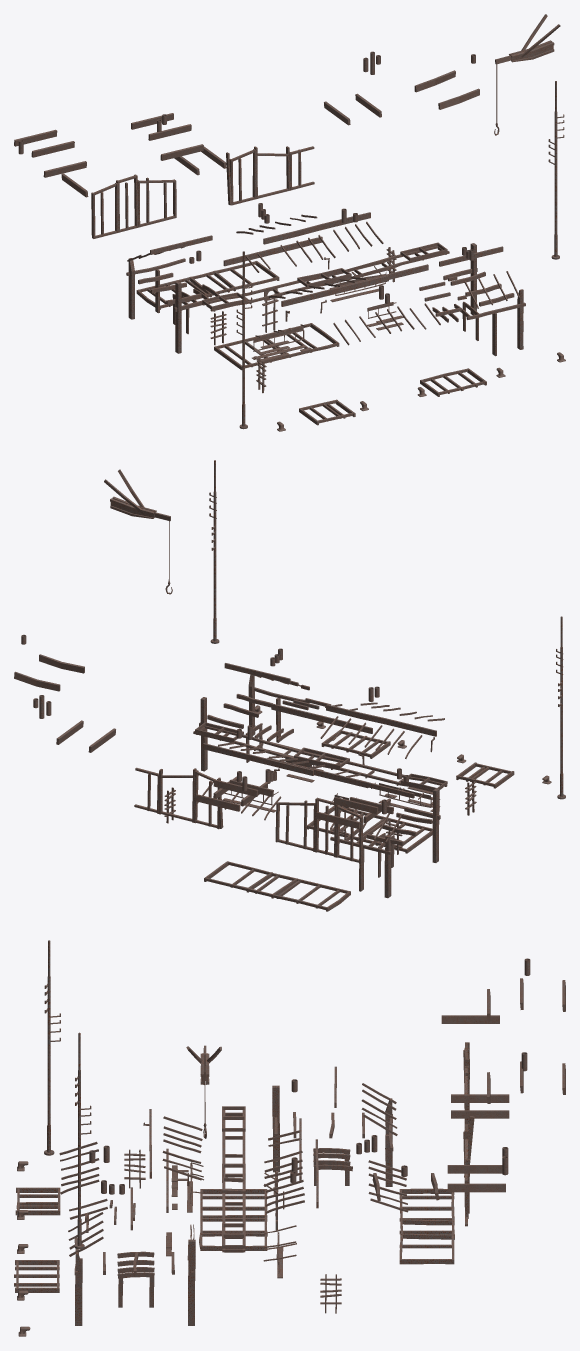
File: SM_WestVillage_Metal_00.fbx
3 renders of one model, top to bottom at view 1: azimuth 30°, elevation 25°; view 2: azimuth 150°, elevation 25°; view 3: azimuth 270°, elevation 25°, orthographic. The views are drawn at different scales.
Parts seen in each view (by area): view 1: SM_WestVillage_Metal_00; view 2: SM_WestVillage_Metal_00; view 3: SM_WestVillage_Metal_00.
Part boxes in pixels (bbox=[...]): SM_WestVillage_Metal_00: bbox=[14, 14, 565, 431]; SM_WestVillage_Metal_00: bbox=[14, 460, 565, 911]; SM_WestVillage_Metal_00: bbox=[14, 940, 565, 1336].
Bounding box in the file's own units: 4847 × 3127 × 4717.
